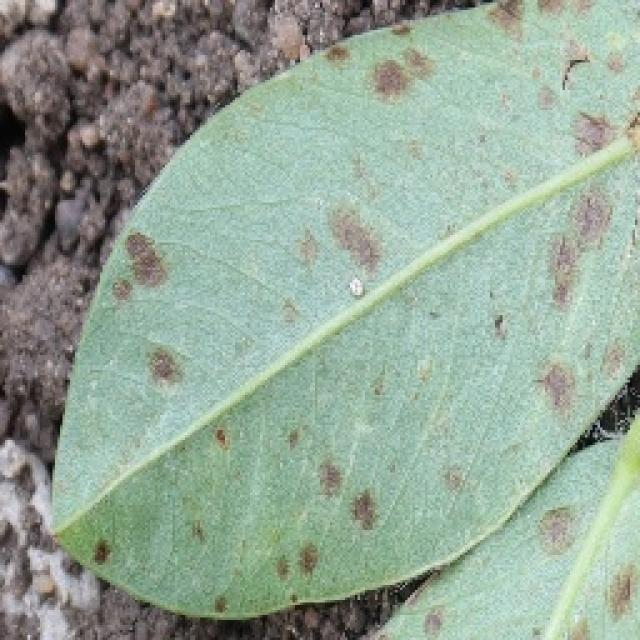Whitefly: (78, 12, 640, 596)
